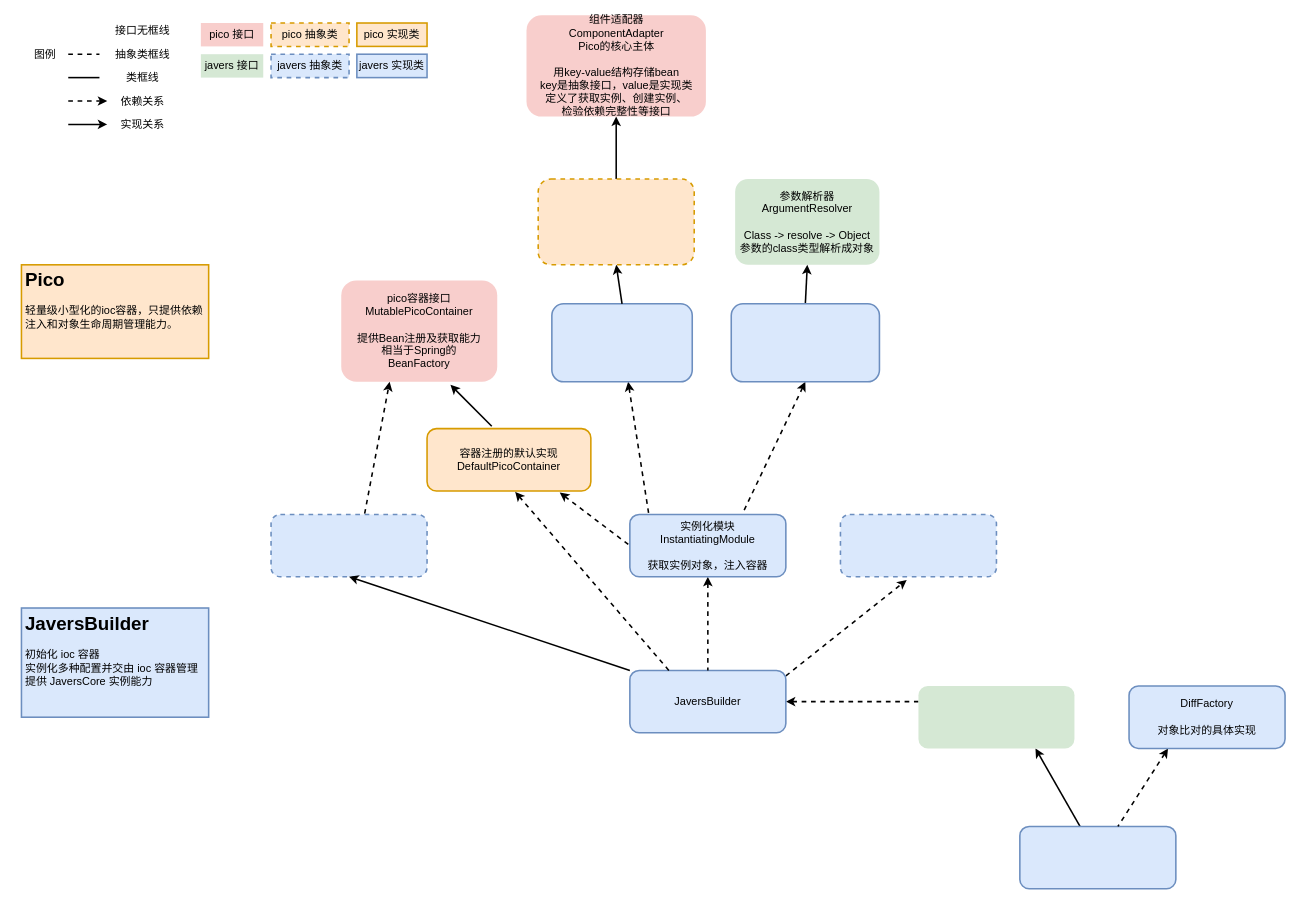
Image size: 1299x902. Some labels were removed from this diagram. The box of each missing label's shape, as (x1, y1, x2, y2) in pixels:
Javers 核心 compare 方法 比对两个对象的差异: (918, 686, 1074, 748)
JaversCore 调用 diffFacotry 对象 实现 compare 方法: (1019, 825, 1176, 889)
容器参数解析器 ContainerArgumentResolver: (730, 303, 880, 382)
容器注册的抽象实现 AbstractContainerBuilder: (270, 513, 427, 577)
抽象组件适配器 AbstractAdapter: (537, 178, 695, 265)
构造器注入适配器 ConstructorInjector: (551, 303, 693, 382)
系统配置 CoreConfigurationBuilder: (839, 513, 997, 577)
